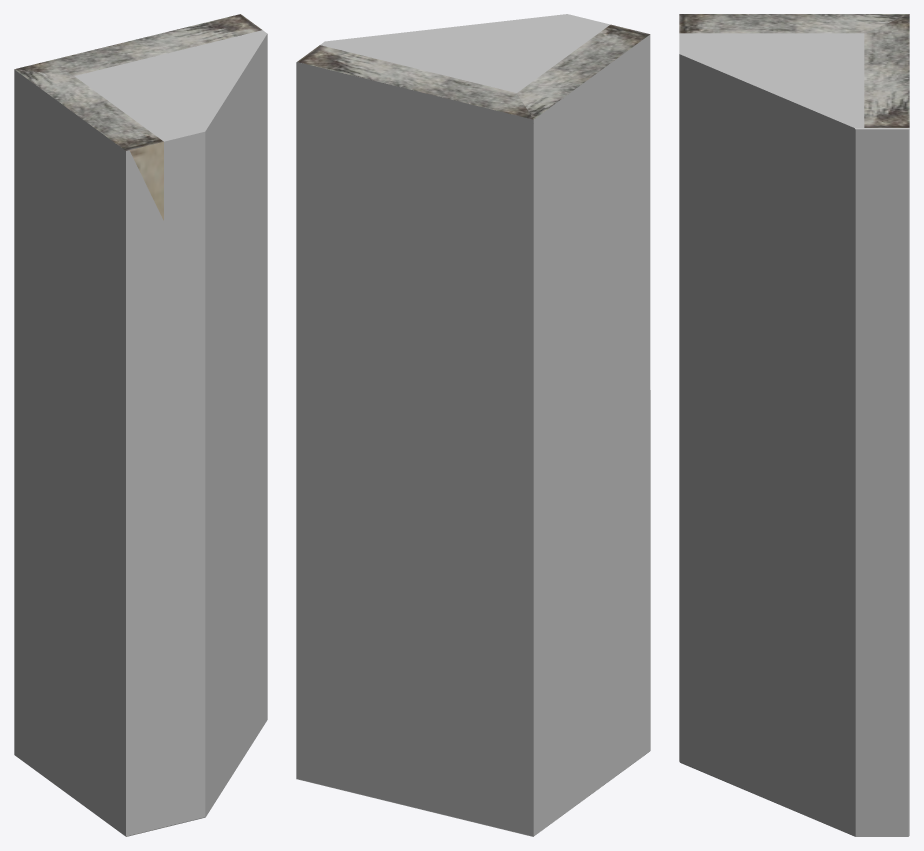
Rendered from SM_concrete_fence_03.fbx.
3 views of the same model, side by side, from view 1: azimuth 30°, elevation 25°; view 2: azimuth 150°, elevation 25°; view 3: azimuth 270°, elevation 25° (orthographic). The views are drawn at different scales.
Visible parts, largest first — view 1: SM_concrete_fence_03_ConvexHulls, SM_concrete_fence_03; view 2: SM_concrete_fence_03_ConvexHulls, SM_concrete_fence_03; view 3: SM_concrete_fence_03_ConvexHulls, SM_concrete_fence_03.
Boxes of the visible parts, <box> form: SM_concrete_fence_03_ConvexHulls: <box>14,30,267,836</box>; SM_concrete_fence_03: <box>14,14,261,822</box>; SM_concrete_fence_03_ConvexHulls: <box>296,14,650,836</box>; SM_concrete_fence_03: <box>297,24,649,766</box>; SM_concrete_fence_03_ConvexHulls: <box>679,33,909,836</box>; SM_concrete_fence_03: <box>679,14,909,127</box>.
Bounding box in the file's own units: 126 × 107 × 364.
2 materials, 1 textured.
